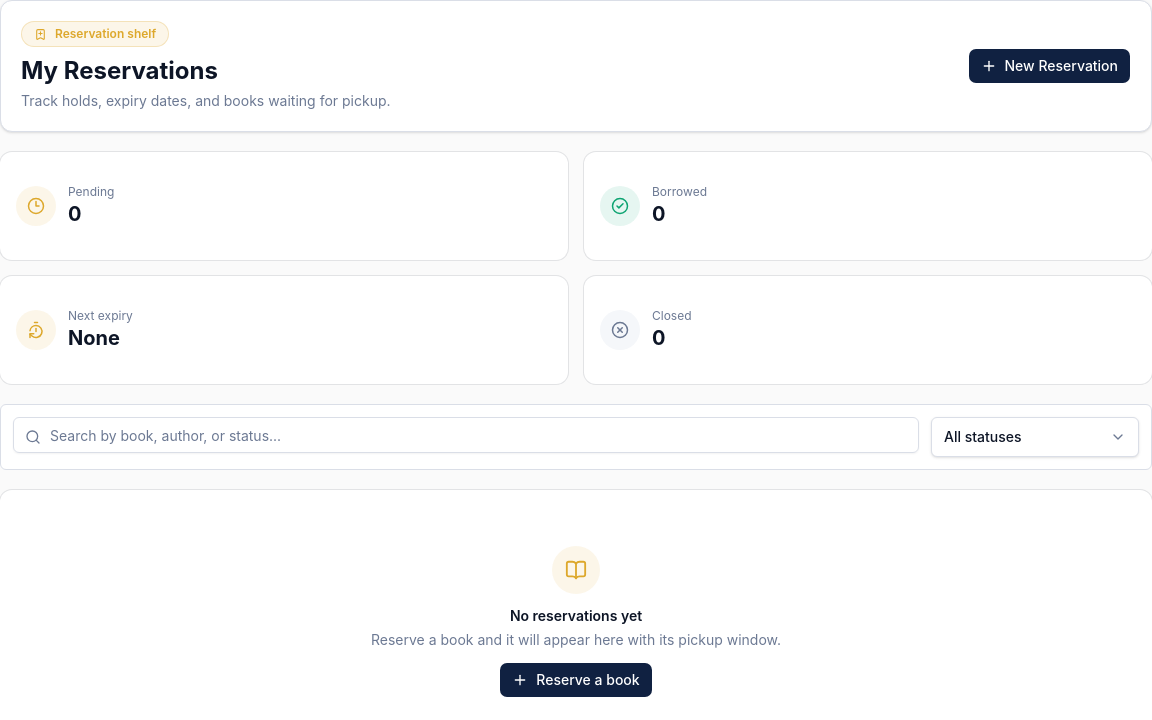
Test: PortalReservationsPage › opens a wide reservation dialog without horizontal overflow
The width and height of the screenshot is (1152, 720).
Expected: the heading "My Reservations" is shown, 21,56 -> 218,85
What coordinates should you click on to do the following:
click the button "New Reservation"
I would click on:
 (1049, 66)
Its box is 968,48 -> 1131,84.
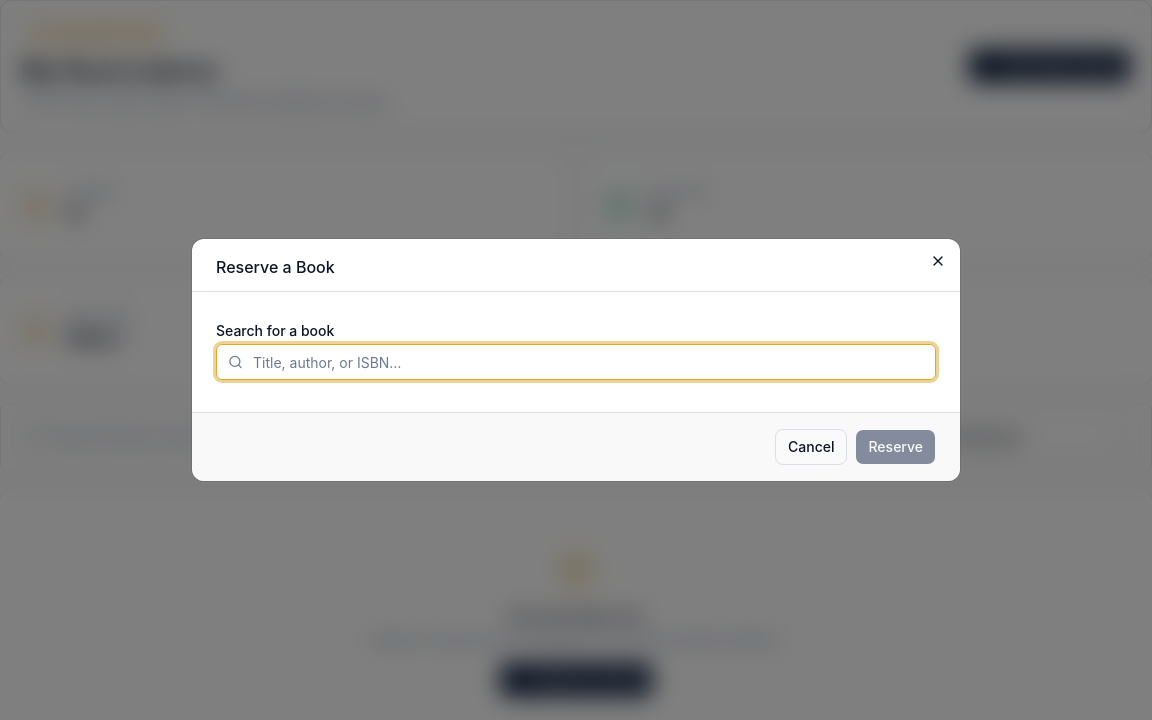
Now the button "Reserve" is shown, box 856,429 -> 936,465
